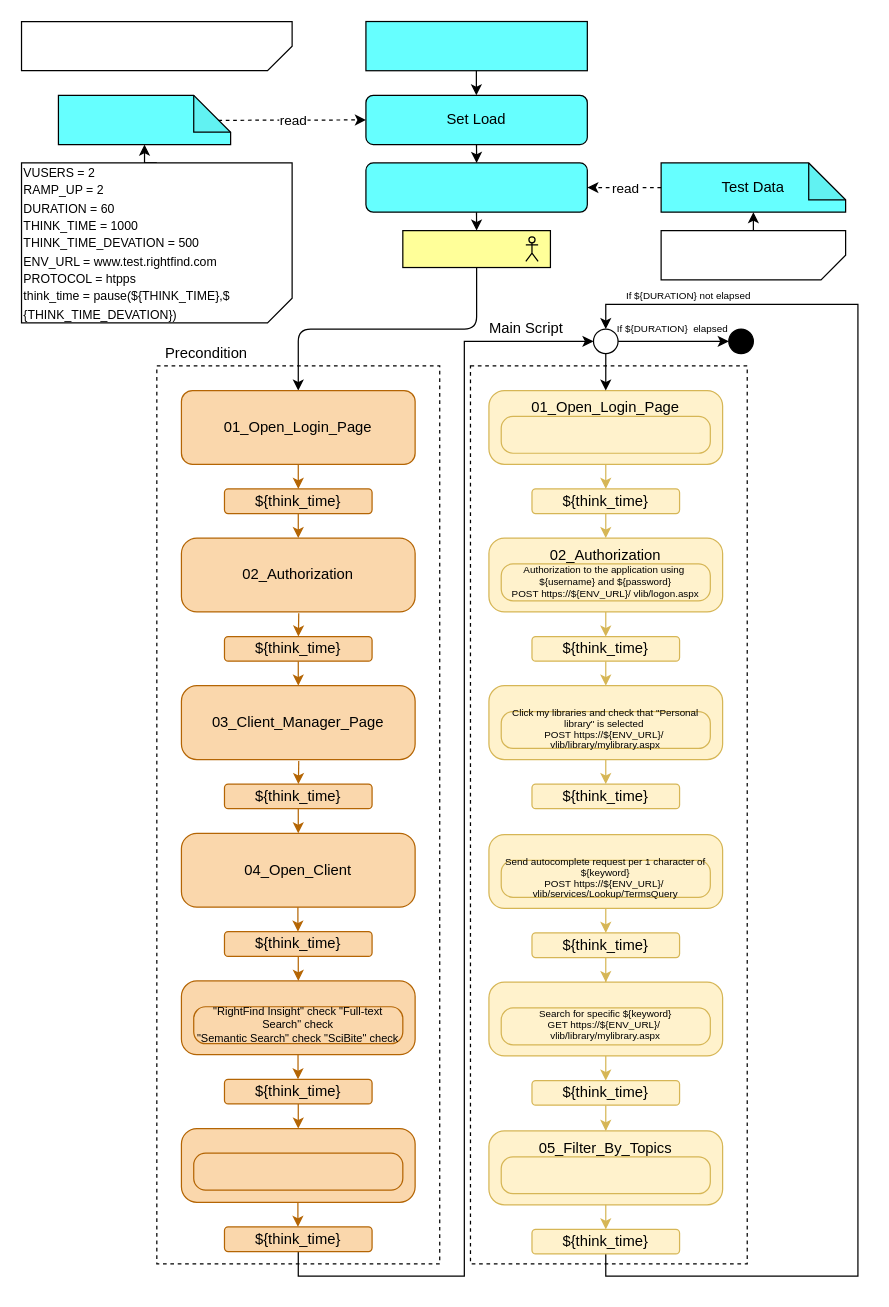
This 889x1307 diagram has some shape labels left out. Here are the shapes that lost their labels. From the top down, the box of each, then its label:
(20, 20, 292, 71): 3_1_RFE_UI_Search_In_User_Library
(365, 20, 587, 71): Start Test
(57, 94, 231, 145): Load Model
(365, 162, 587, 212): Set Test Data
(402, 229, 550, 268): vUser
(660, 229, 846, 280): searchphrase = ${searchphrase} username = ${username} password = ${password}
(500, 415, 710, 453): Open application main page - GET https://${ENV_URL}/
(488, 684, 723, 760): 03_Open_My_Libraries
(488, 833, 723, 908): 04_Autocomplete
(180, 980, 415, 1055): 05_Client_Update
(488, 981, 723, 1056): 05_Search
(180, 1127, 415, 1202): 06_Open_Client_Verify
(192, 1152, 403, 1190): Verify Precondition setup
(500, 1156, 710, 1194): Use "Topics" filter GET https://${ENV_URL}/ vlib/library/mylibrary.aspx
